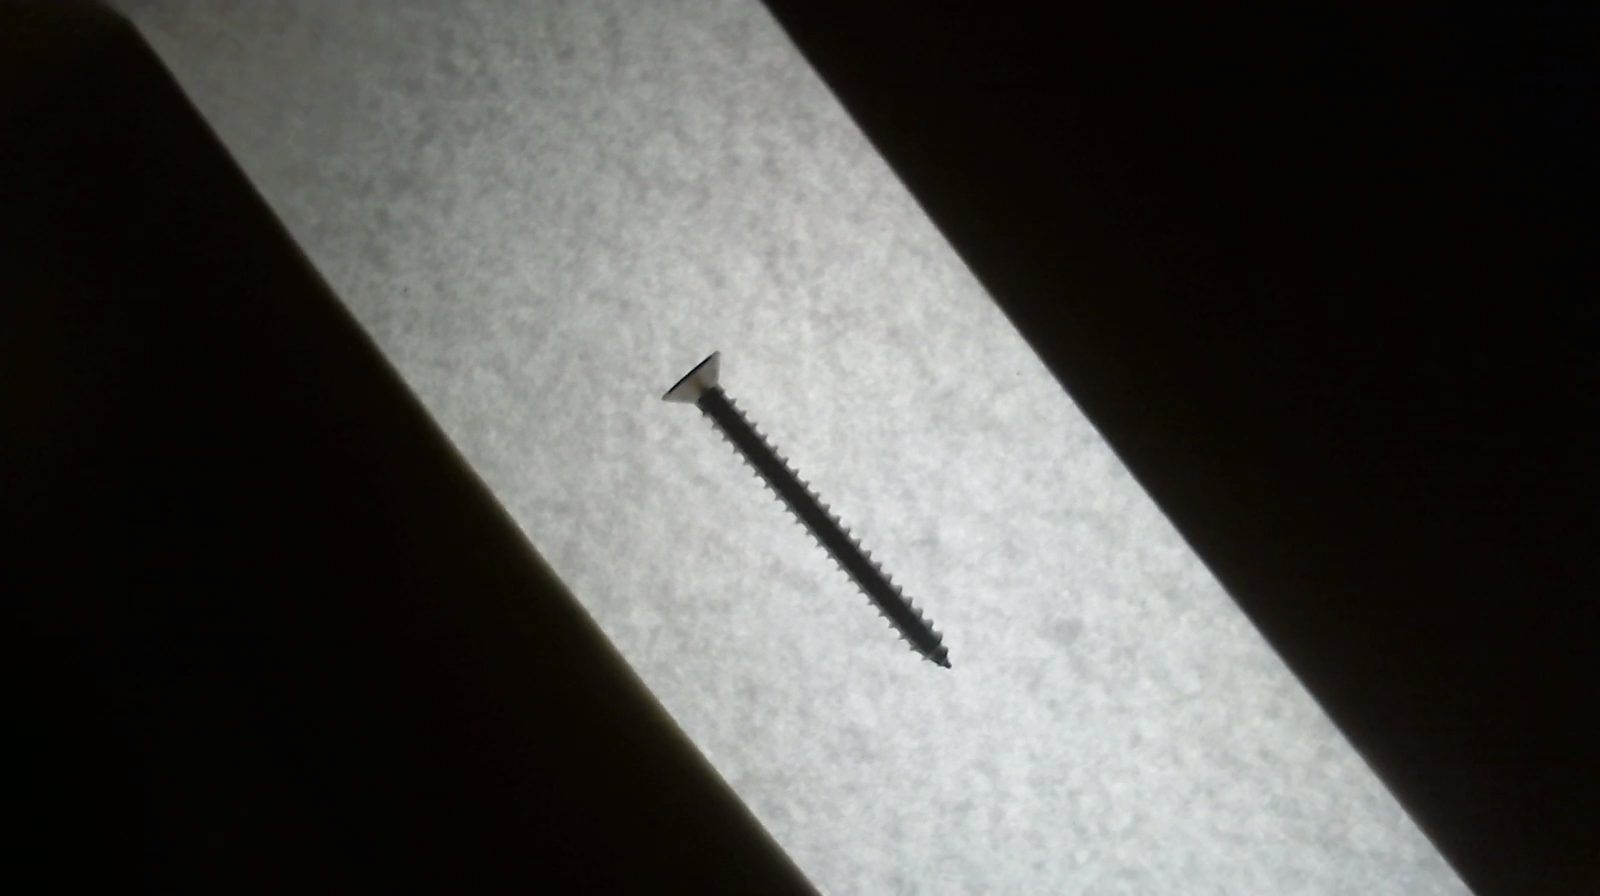S002: (653, 340, 967, 677)
